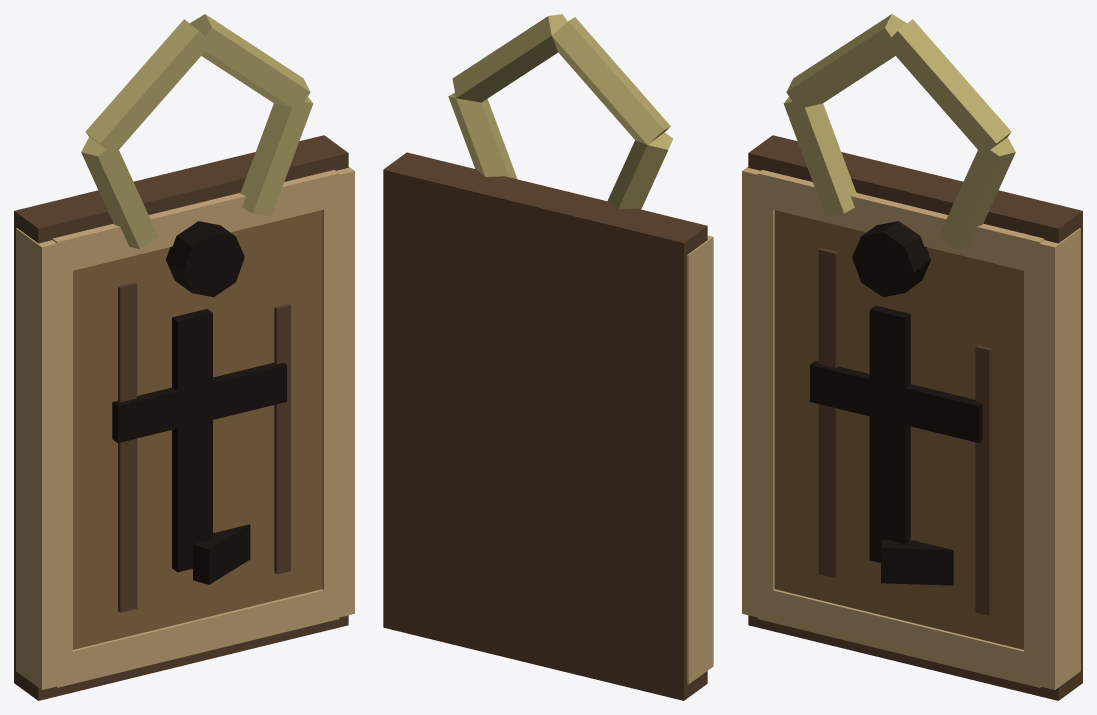
File: prop_closeup_mokpae.glb
3 views of the same model, side by side, from view 1: azimuth 30°, elevation 25°; view 2: azimuth 150°, elevation 25°; view 3: azimuth 330°, elevation 25° (orthographic). The views are drawn at different scales.
Parts seen in each view (by area): view 1: prop_closeup_mokpae; view 2: prop_closeup_mokpae; view 3: prop_closeup_mokpae.
Part boxes in pixels (<box>): prop_closeup_mokpae: <box>14,14,354,700</box>; prop_closeup_mokpae: <box>383,14,713,700</box>; prop_closeup_mokpae: <box>742,14,1082,700</box>.
Size of the model in its own units: 0.222 by 0.4387 by 0.055.
